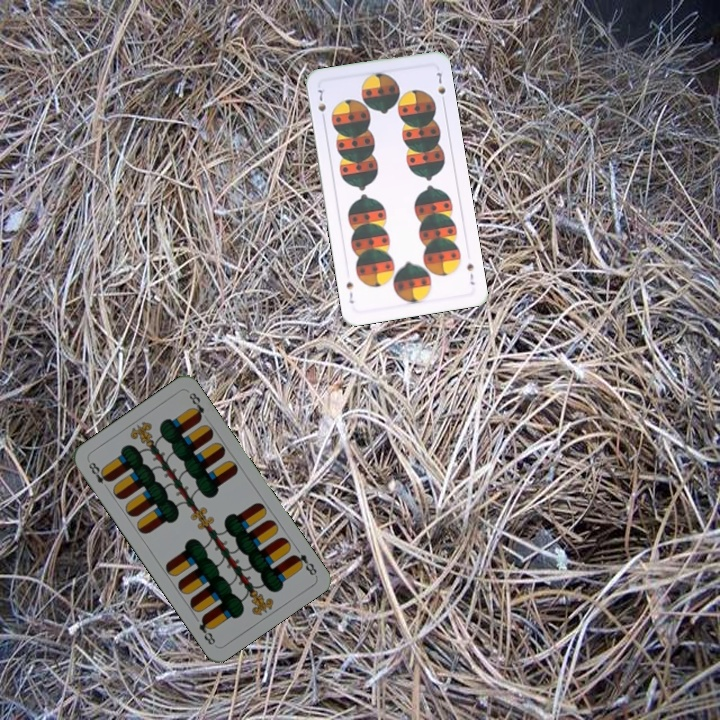E8: (84, 457, 113, 487), (288, 550, 319, 578)
S7: (313, 83, 329, 124), (463, 259, 477, 287)
